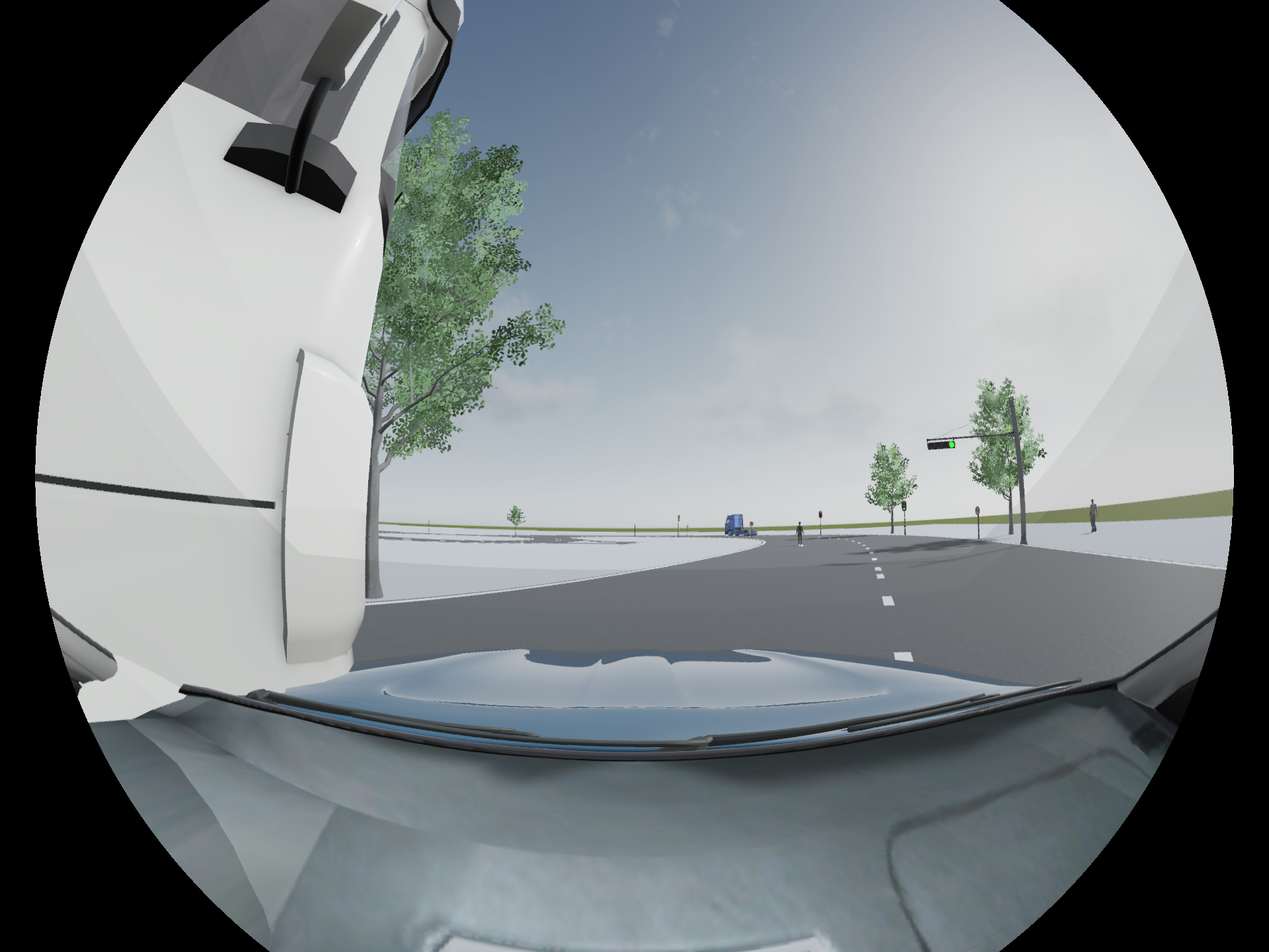Green Light: (925, 438, 957, 451)
